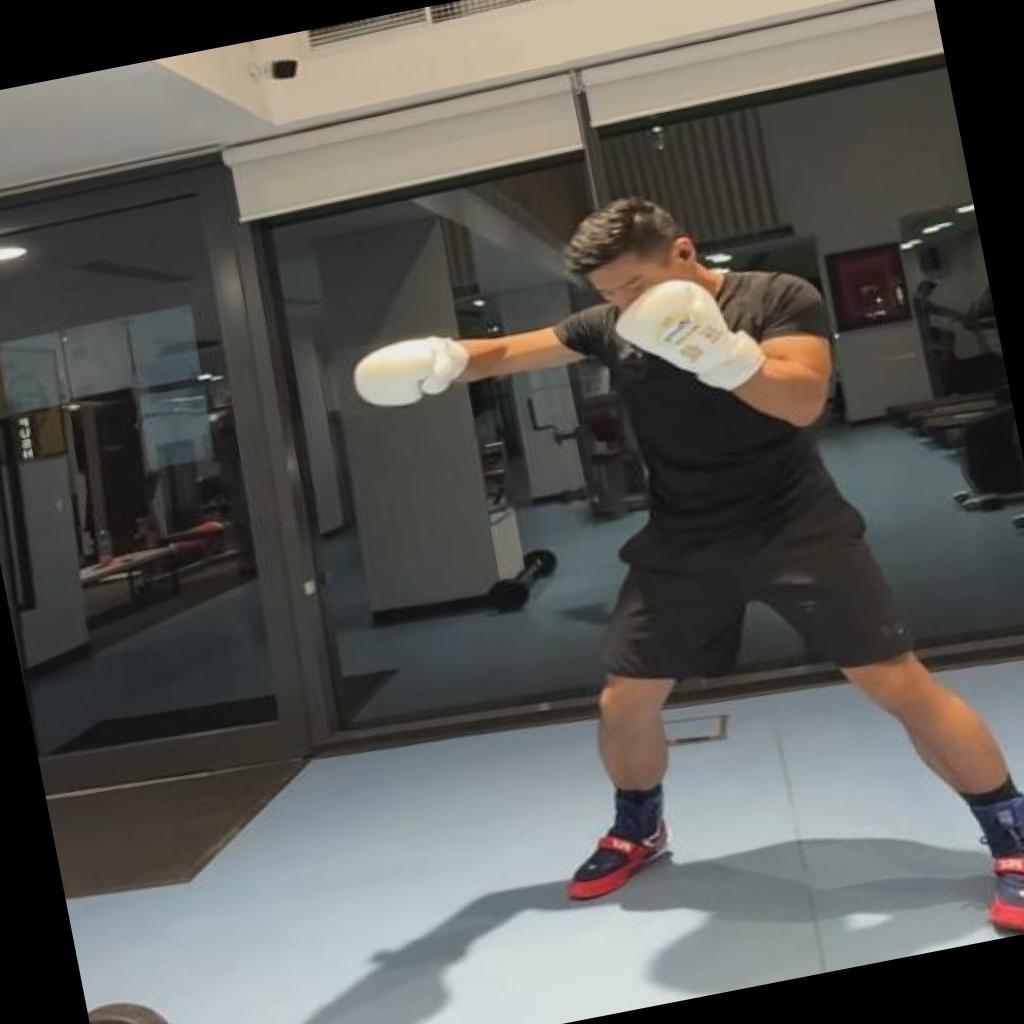hook: (331, 137, 1024, 1024)
